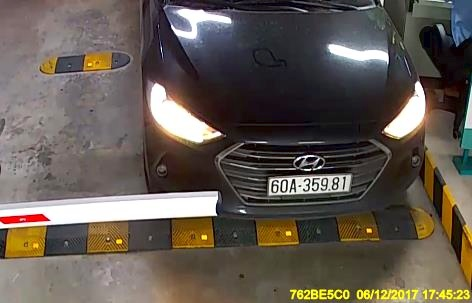plate: (262, 170, 352, 199)
